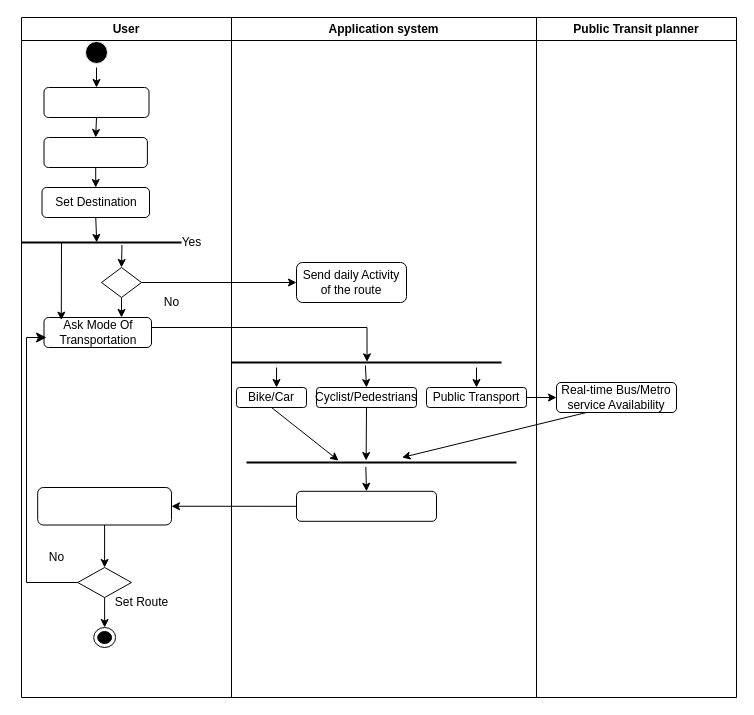
This 754x715 diagram has some shape labels left out. Each missing label, with the centre of its shape:
"Create Route" belongs at [95,152].
"Login" belongs at [96,102].
"Provide Shortest Route" belongs at [104,505].
"Route Interruption/Event check" belongs at [366,505].
"Save" belongs at [121,282].
